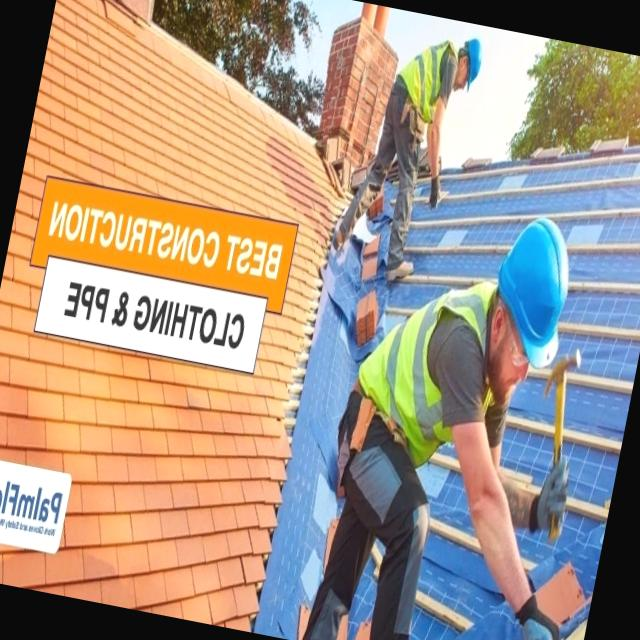goggles: (488, 310, 542, 380), (460, 60, 476, 90)
helmet: (480, 207, 583, 373), (457, 32, 490, 95)
vest: (339, 252, 502, 484), (392, 26, 460, 128)
